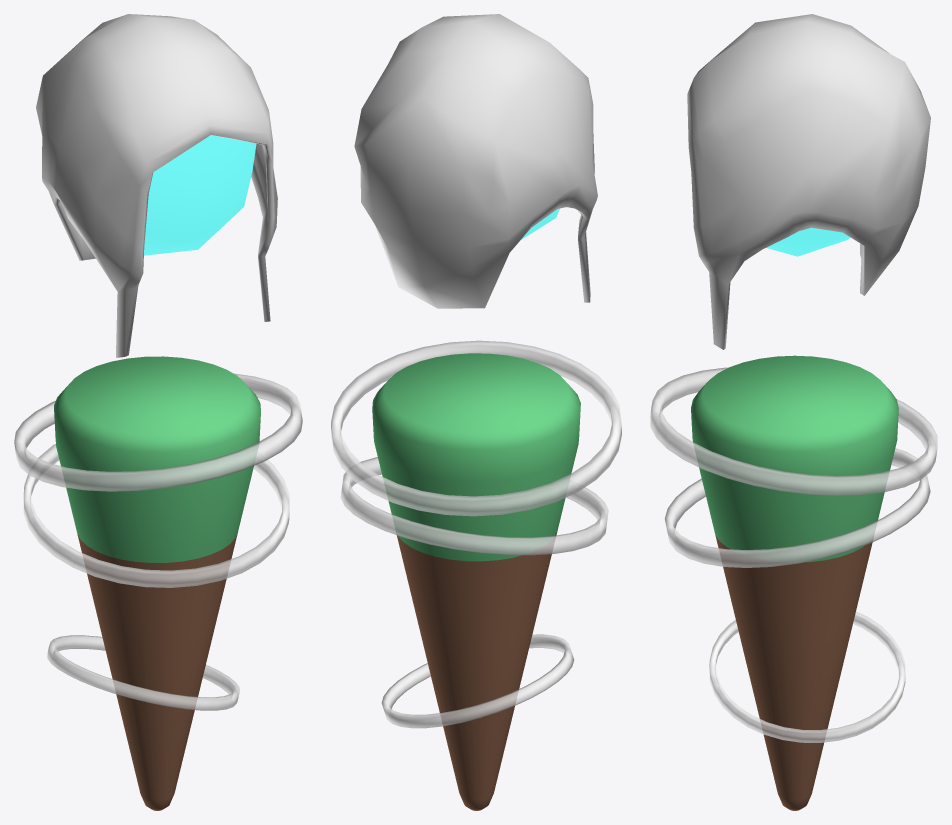
The model's file is Woman Spirit.fbx.
3 views of the same model, side by side, from view 1: azimuth 30°, elevation 25°; view 2: azimuth 150°, elevation 25°; view 3: azimuth 270°, elevation 25° (orthographic).
Visible parts, largest first — view 1: Cone.001, Head.001, Loop 3.001; view 2: Cone.001, Head.001, Loop 3.001; view 3: Cone.001, Head.001, Loop 3.001.
Boxes of the visible parts, x1,y1,x2,y2 form: Cone.001: [54, 356, 260, 810]; Head.001: [36, 14, 277, 357]; Loop 3.001: [14, 373, 302, 710]; Cone.001: [372, 353, 580, 810]; Head.001: [354, 14, 597, 308]; Loop 3.001: [331, 340, 621, 728]; Cone.001: [691, 355, 898, 810]; Head.001: [687, 14, 930, 349]; Loop 3.001: [650, 367, 937, 742].
Size of the model in its own units: 131 by 394 by 131.
